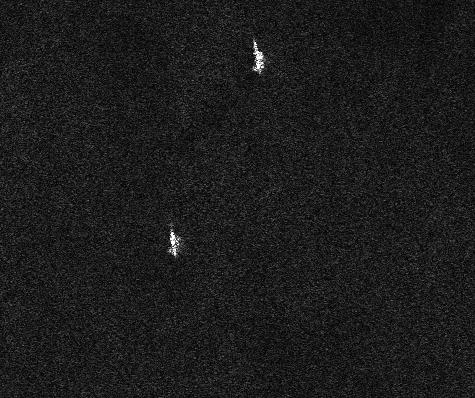ship: (250, 41, 267, 75), (165, 230, 182, 258)
